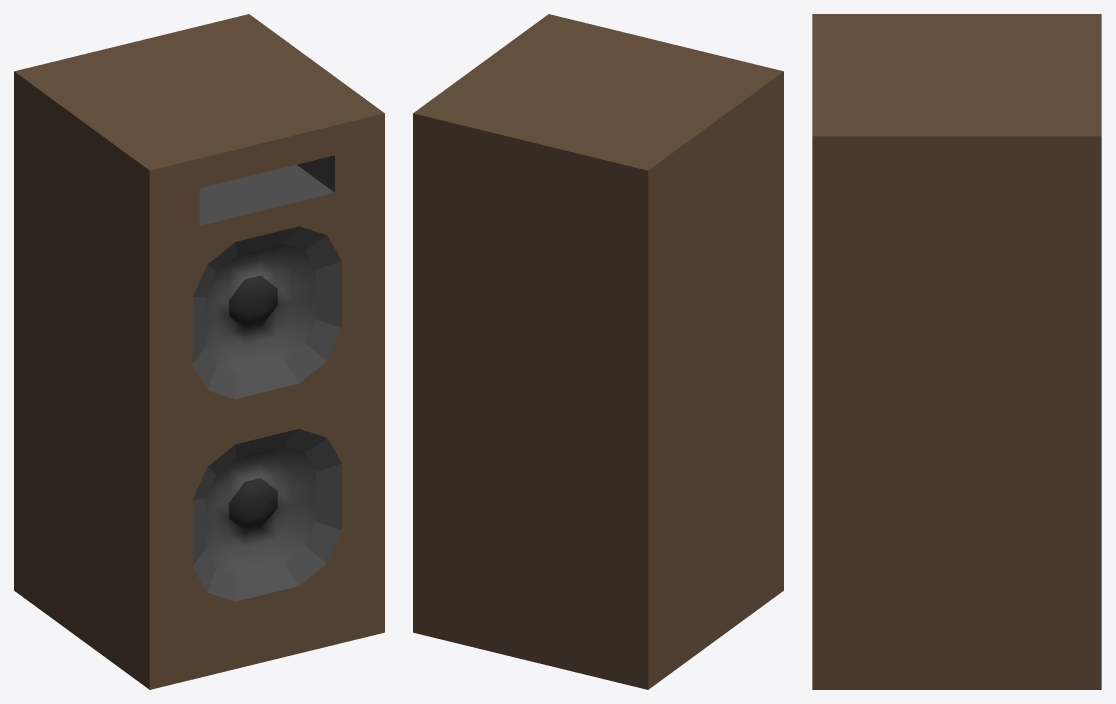
Rendered from ufa.fbx.
The picture shows the model from 3 angles, left to right: view 1: azimuth 30°, elevation 25°; view 2: azimuth 150°, elevation 25°; view 3: azimuth 270°, elevation 25°; orthographic projection. The views are drawn at different scales.
Parts seen in each view (by area): view 1: Cube; view 2: Cube; view 3: Cube.
Boxes of the visible parts, x1=… form: Cube: x1=14, y1=14, x2=384, y2=689; Cube: x1=413, y1=14, x2=783, y2=689; Cube: x1=812, y1=14, x2=1101, y2=689.
Size of the model in its own units: 200 by 422 by 200.
